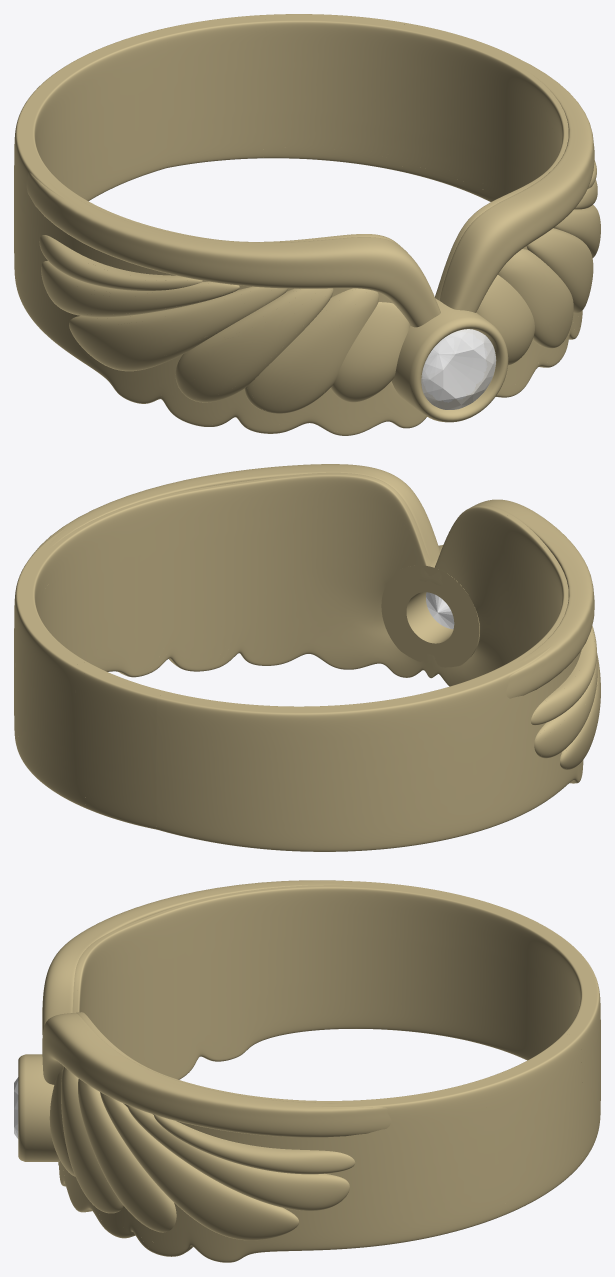
Rendered from ring.glb.
The picture shows the model from 3 angles, top to bottom: view 1: azimuth 30°, elevation 25°; view 2: azimuth 150°, elevation 25°; view 3: azimuth 270°, elevation 25°; orthographic projection. The views are drawn at different scales.
Parts seen in each view (by area): view 1: Plane005, Cylinder001, NGon006; view 2: Plane005, Cylinder001, NGon006; view 3: Plane005, Cylinder001.
Part boxes in pixels (x1=…): Plane005: x1=14, y1=14, x2=600, y2=435; Cylinder001: x1=391, y1=298, x2=508, y2=422; NGon006: x1=421, y1=329, x2=496, y2=409; Plane005: x1=14, y1=464, x2=600, y2=851; Cylinder001: x1=381, y1=545, x2=479, y2=667; NGon006: x1=426, y1=592, x2=454, y2=629; Plane005: x1=42, y1=880, x2=600, y2=1262; Cylinder001: x1=18, y1=1054, x2=60, y2=1161.
Size of the model in its own units: 2.03 by 0.7361 by 2.11.
